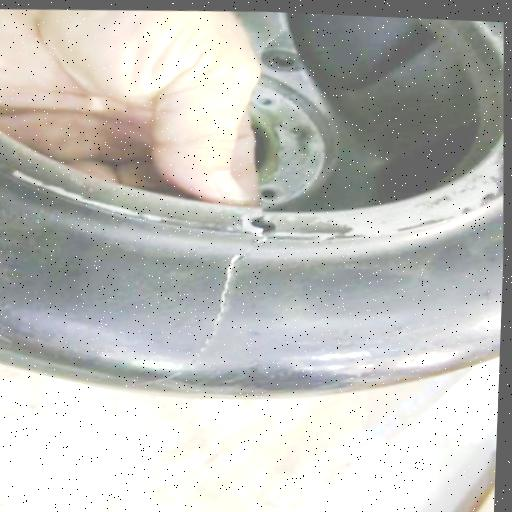crack: (197, 241, 258, 356)
